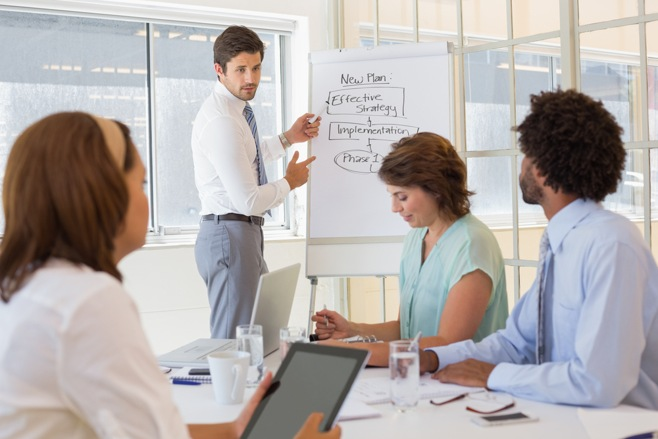Person: (1, 111, 341, 439), (396, 83, 658, 410), (310, 131, 508, 366), (191, 25, 321, 339)
